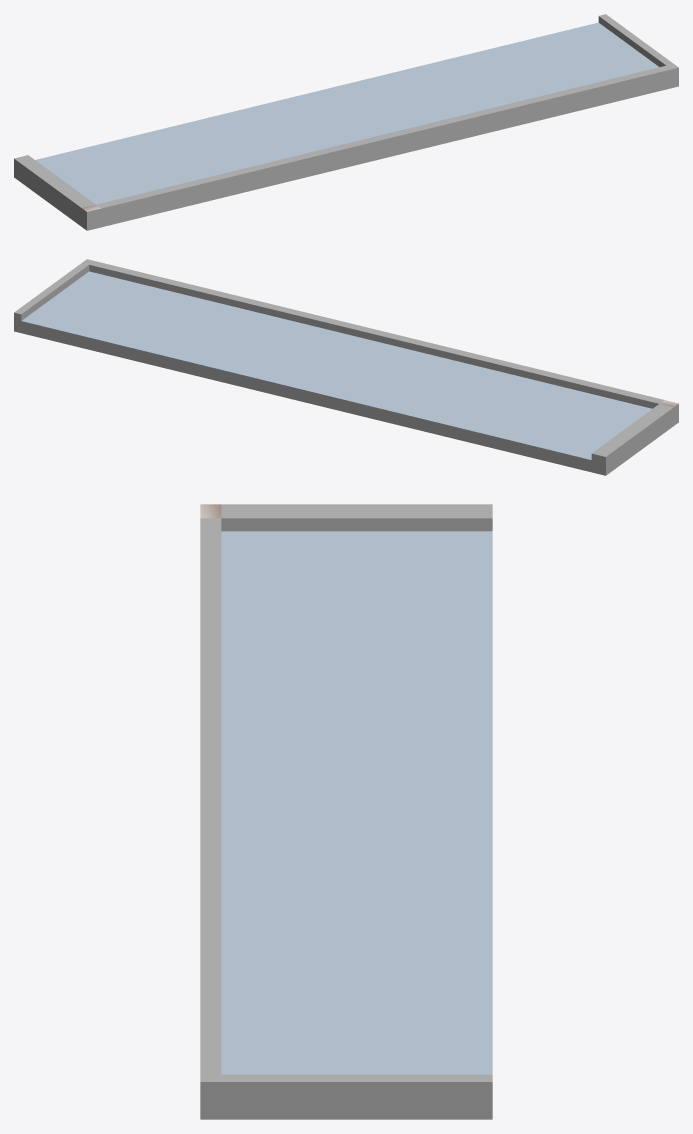
Rendered from GGJ21_Appartment_Balcony.fbx.
3 renders of one model, top to bottom at view 1: azimuth 30°, elevation 25°; view 2: azimuth 150°, elevation 25°; view 3: azimuth 270°, elevation 25°, orthographic. The views are drawn at different scales.
Visible parts, largest first — view 1: Balcony; view 2: Balcony; view 3: Balcony.
Boxes of the visible parts, box(x1,y1,x2,y2) form: Balcony: box(14, 14, 678, 230); Balcony: box(14, 259, 678, 475); Balcony: box(200, 504, 492, 1119).
Size of the model in its own units: 9718 by 296 by 2079.
